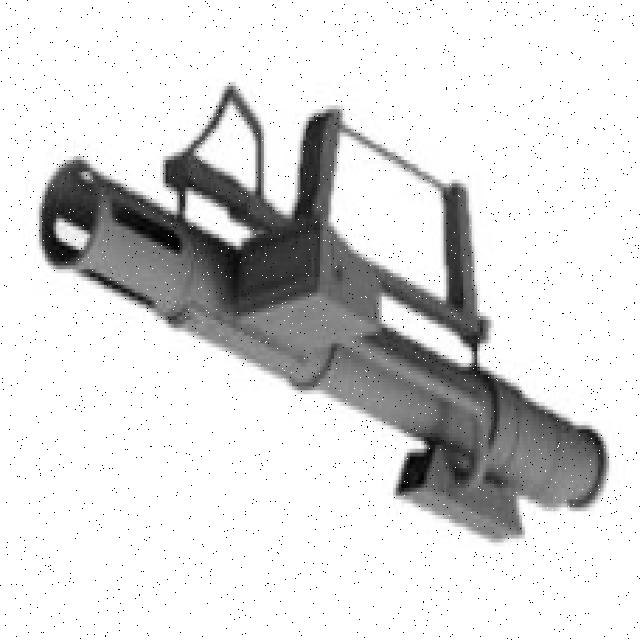bazooka: (29, 78, 618, 551)
